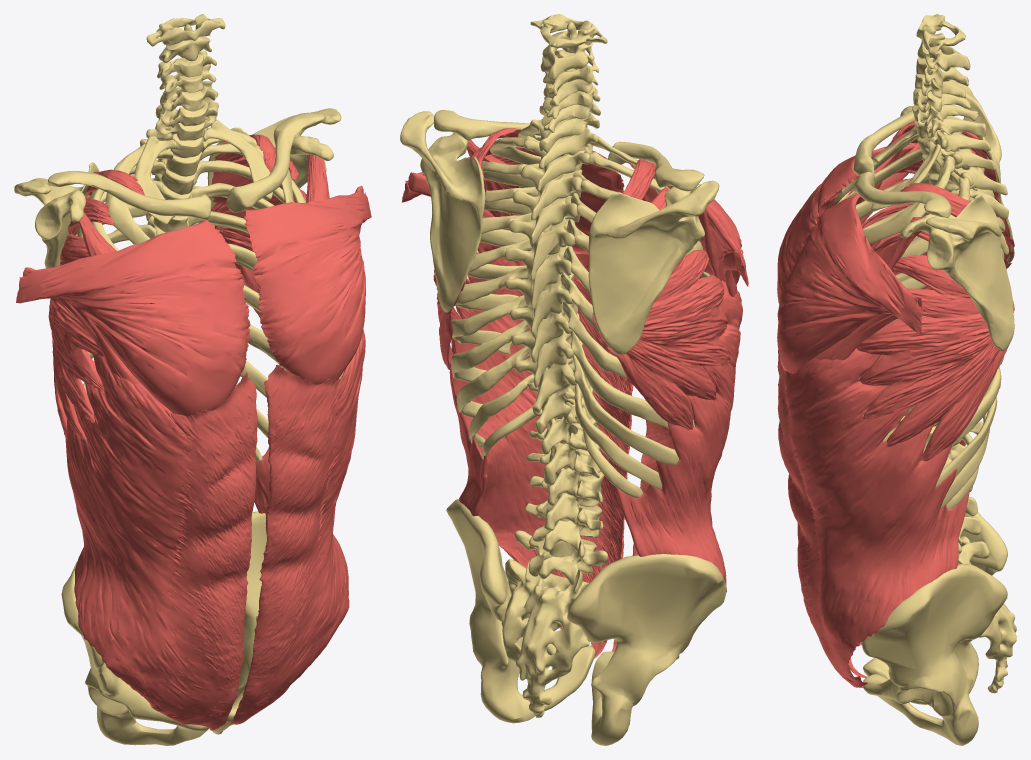
3 views of the same model, side by side, from view 1: azimuth 30°, elevation 25°; view 2: azimuth 150°, elevation 25°; view 3: azimuth 270°, elevation 25° (orthographic). The views are drawn at different scales.
Parts seen in each view (by area): view 1: spine-trunk:external-oblique:isa:FJ1452, spine-trunk:external-oblique:isa:FJ1452M, spine-trunk:pectoralis-major:isa:FJ1464, spine-trunk:pectoralis-major:isa:FJ1464M, shoulder:serratus-anterior:isa:FJ1459, hip-pelvis:hip-bone:isa:FJ3152, shoulder:scapula:isa:FJ3384, shoulder:serratus-anterior:isa:FJ1459M, shoulder:clavicle:isa:FJ3362, shoulder:clavicle:isa:FJ3237, hip-pelvis:hip-bone:isa:FJ3288, shoulder:scapula:isa:FJ3279 (+20 smaller); view 2: hip-pelvis:hip-bone:isa:FJ3152, spine-trunk:external-oblique:isa:FJ1452M, spine-trunk:external-oblique:isa:FJ1452, shoulder:scapula:isa:FJ3384, shoulder:serratus-anterior:isa:FJ1459, hip-pelvis:hip-bone:isa:FJ3288, shoulder:scapula:isa:FJ3279, spine-trunk:sacrum:isa:FJ3393, spine-trunk:fifth-lumbar-vertebra:isa:FJ3168, spine-trunk:pectoralis-major:isa:FJ1464M, spine-trunk:tenth-rib:isa:FJ3330, spine-trunk:fourth-lumbar-vertebra:isa:FJ3165 (+47 smaller); view 3: spine-trunk:external-oblique:isa:FJ1452M, shoulder:serratus-anterior:isa:FJ1459M, hip-pelvis:hip-bone:isa:FJ3288, spine-trunk:pectoralis-major:isa:FJ1464M, shoulder:scapula:isa:FJ3279, spine-trunk:pectoralis-major:isa:FJ1464, hip-pelvis:hip-bone:isa:FJ3152, shoulder:serratus-anterior:isa:FJ1459, spine-trunk:sacrum:isa:FJ3393, shoulder:clavicle:isa:FJ3237, spine-trunk:second-rib:isa:FJ3229, spine-trunk:pectoralis-major:isa:FJ1446M (+23 smaller).
Boxes of the visible parts, <box> form: spine-trunk:external-oblique:isa:FJ1452: <box>65,354,257,730</box>; spine-trunk:external-oblique:isa:FJ1452M: <box>226,329,365,724</box>; spine-trunk:pectoralis-major:isa:FJ1464: <box>16,220,250,416</box>; spine-trunk:pectoralis-major:isa:FJ1464M: <box>244,189,371,384</box>; shoulder:serratus-anterior:isa:FJ1459: <box>48,169,144,443</box>; hip-pelvis:hip-bone:isa:FJ3152: <box>61,562,209,745</box>; shoulder:scapula:isa:FJ3384: <box>14,162,99,268</box>; shoulder:serratus-anterior:isa:FJ1459M: <box>211,134,306,318</box>; shoulder:clavicle:isa:FJ3362: <box>47,171,211,220</box>; shoulder:clavicle:isa:FJ3237: <box>226,112,324,212</box>; hip-pelvis:hip-bone:isa:FJ3288: <box>212,511,348,734</box>; shoulder:scapula:isa:FJ3279: <box>207,108,341,208</box>; hip-pelvis:hip-bone:isa:FJ3152: <box>567,554,726,745</box>; spine-trunk:external-oblique:isa:FJ1452M: <box>449,242,633,658</box>; spine-trunk:external-oblique:isa:FJ1452: <box>612,280,742,651</box>; shoulder:scapula:isa:FJ3384: <box>588,180,719,354</box>; shoulder:serratus-anterior:isa:FJ1459: <box>592,158,730,429</box>; hip-pelvis:hip-bone:isa:FJ3288: <box>446,499,595,723</box>; shoulder:scapula:isa:FJ3279: <box>400,111,485,312</box>; spine-trunk:sacrum:isa:FJ3393: <box>501,559,589,718</box>; spine-trunk:fifth-lumbar-vertebra:isa:FJ3168: <box>514,530,608,585</box>; spine-trunk:pectoralis-major:isa:FJ1464M: <box>402,146,624,280</box>; spine-trunk:tenth-rib:isa:FJ3330: <box>572,354,678,465</box>; spine-trunk:fourth-lumbar-vertebra:isa:FJ3165: <box>525,500,603,551</box>; spine-trunk:external-oblique:isa:FJ1452M: <box>777,348,969,687</box>; shoulder:serratus-anterior:isa:FJ1459M: <box>857,183,1014,461</box>; hip-pelvis:hip-bone:isa:FJ3288: <box>862,564,1007,745</box>; spine-trunk:pectoralis-major:isa:FJ1464M: <box>777,193,923,373</box>; shoulder:scapula:isa:FJ3279: <box>900,194,1014,351</box>; spine-trunk:pectoralis-major:isa:FJ1464: <box>777,143,916,304</box>; hip-pelvis:hip-bone:isa:FJ3152: <box>863,512,1007,704</box>; shoulder:serratus-anterior:isa:FJ1459: <box>861,120,1014,289</box>; spine-trunk:sacrum:isa:FJ3393: <box>960,536,1016,693</box>; shoulder:clavicle:isa:FJ3237: <box>853,171,951,217</box>; spine-trunk:second-rib:isa:FJ3229: <box>863,154,955,244</box>; spine-trunk:pectoralis-major:isa:FJ1446M: <box>785,296,922,405</box>.
Size of the model in its own units: 0.3757 by 0.7295 by 0.2266.
